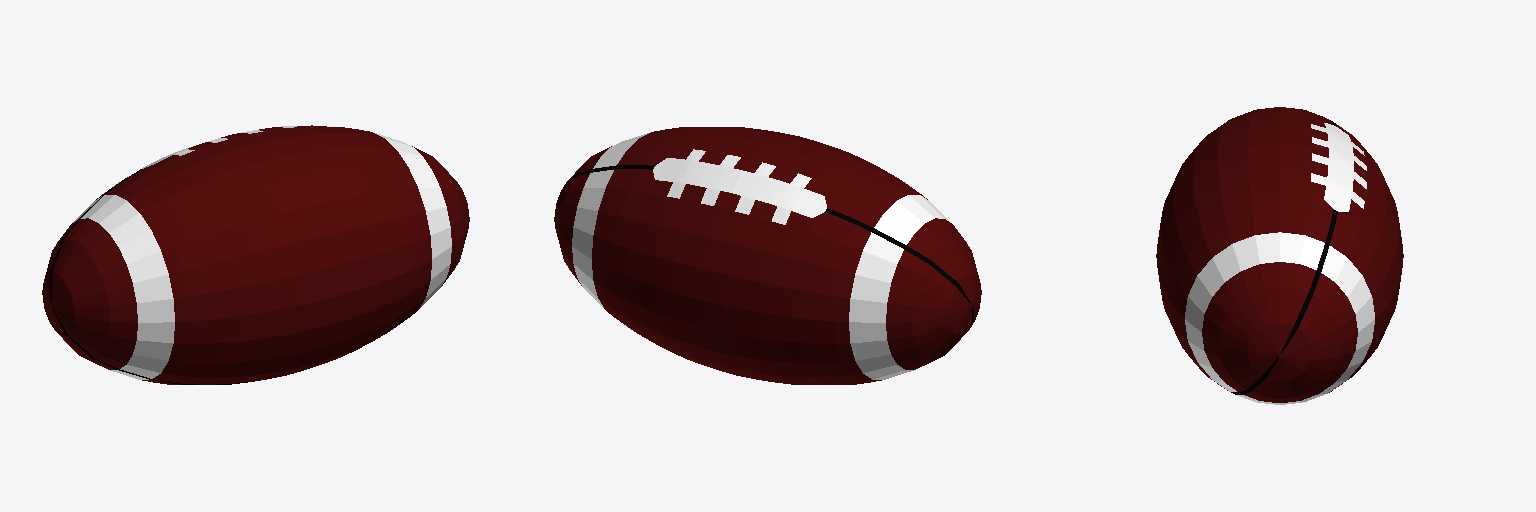
Rendered from Football.obj.
3 views of the same model, side by side, from view 1: azimuth 30°, elevation 25°; view 2: azimuth 150°, elevation 25°; view 3: azimuth 270°, elevation 25° (orthographic).
Parts seen in each view (by area): view 1: node-0_buffer-0-mesh-0; view 2: node-0_buffer-0-mesh-0; view 3: node-0_buffer-0-mesh-0.
Boxes of the visible parts, x1,y1,x2,y2 form: node-0_buffer-0-mesh-0: [42, 125, 469, 384]; node-0_buffer-0-mesh-0: [554, 127, 981, 384]; node-0_buffer-0-mesh-0: [1156, 107, 1403, 404].
Bounding box in the file's own units: 848980 × 445900 × 445900.